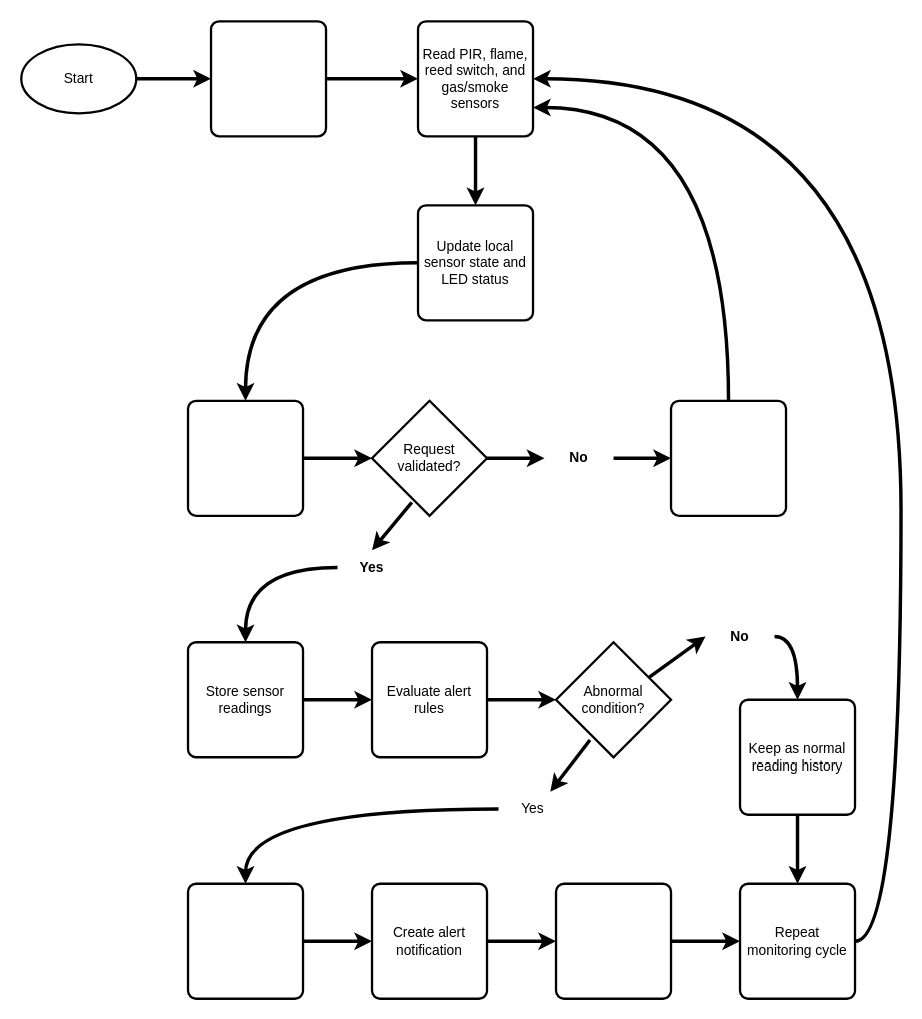
This 922x1019 diagram has some shape labels left out. Each missing label, with the centre of its shape:
"Create emergency event" belongs at [245,940].
"Enter normal monitoring mode" belongs at [268,78].
"Retry next cycle" belongs at [728,457].
"Submit sensor readings to the backend" belongs at [245,457].
"Update dashboard" belongs at [613,940].
